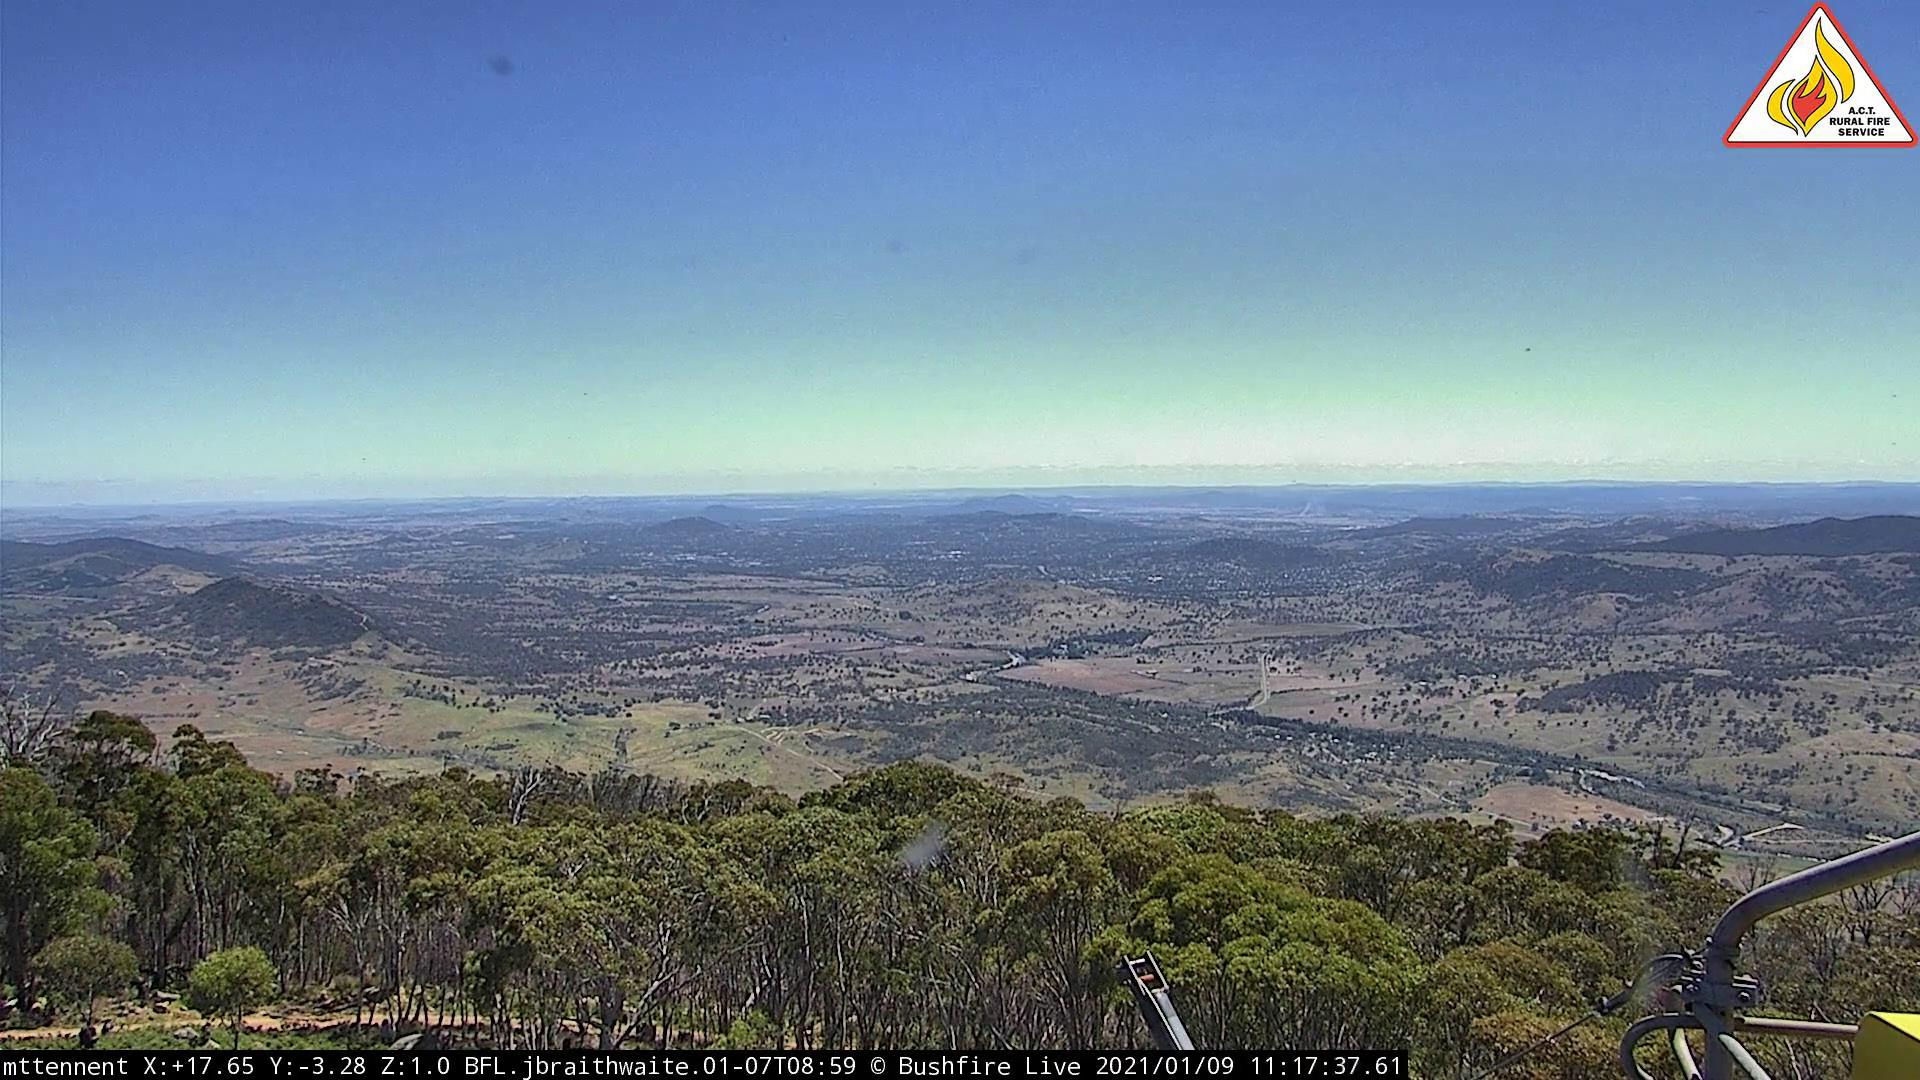Smoke: (1291, 495, 1331, 524)
